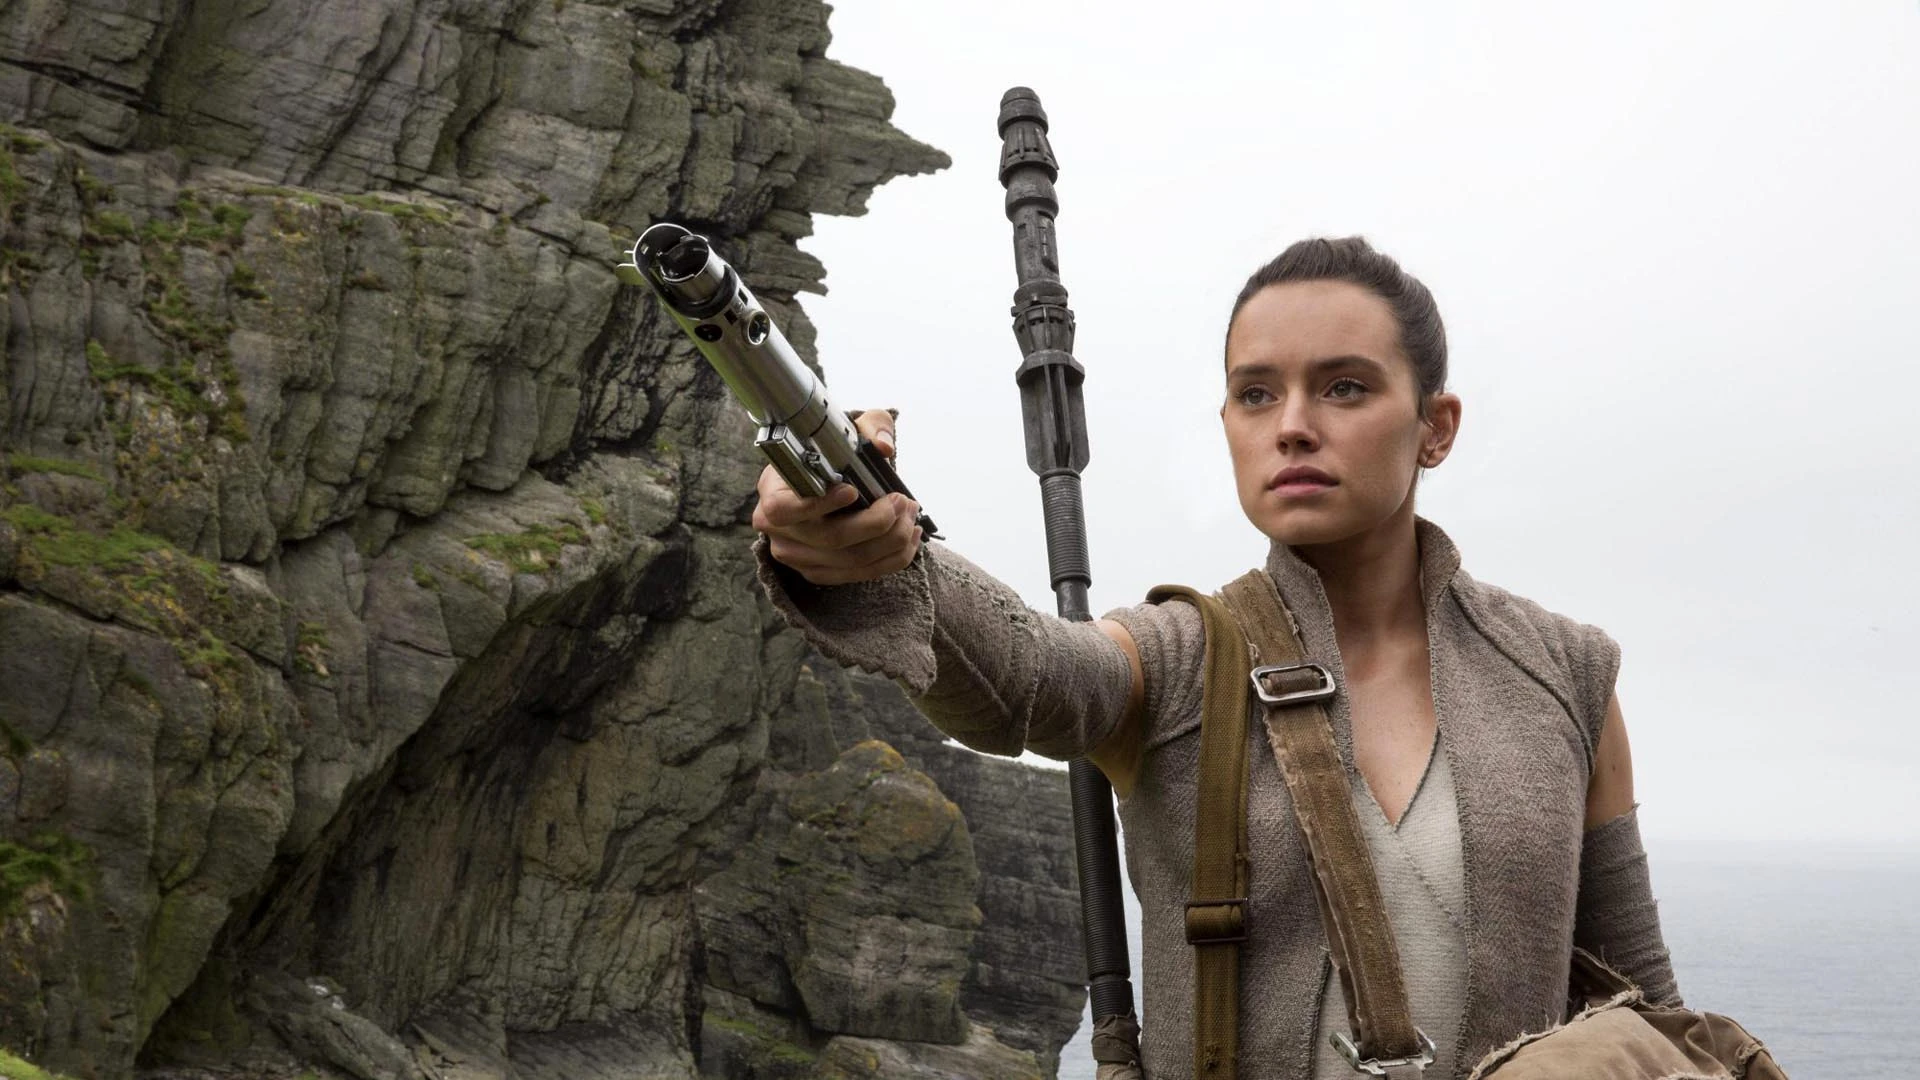Dalek: (624, 204, 959, 576)
